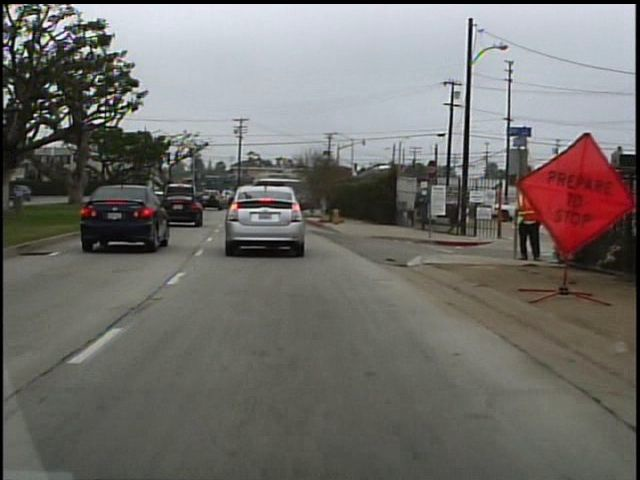person: (506, 175, 544, 263)
